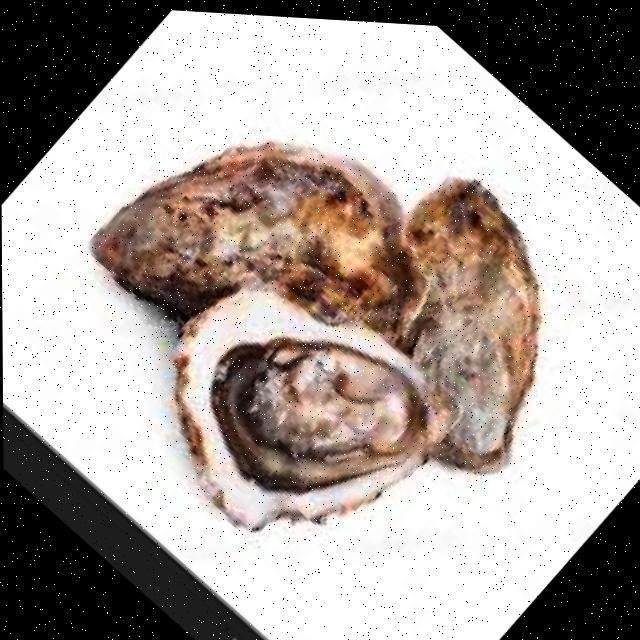Oyster-Indeterminate: (105, 142, 422, 339), (398, 179, 540, 472)
Oyster-Open: (176, 289, 457, 529)
